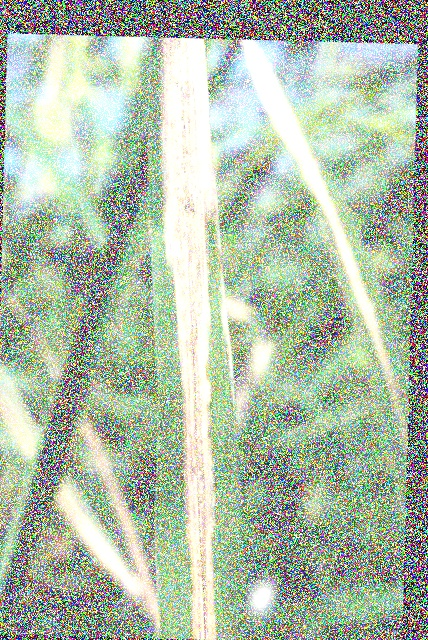Leaf_Blast: (178, 41, 224, 640)
